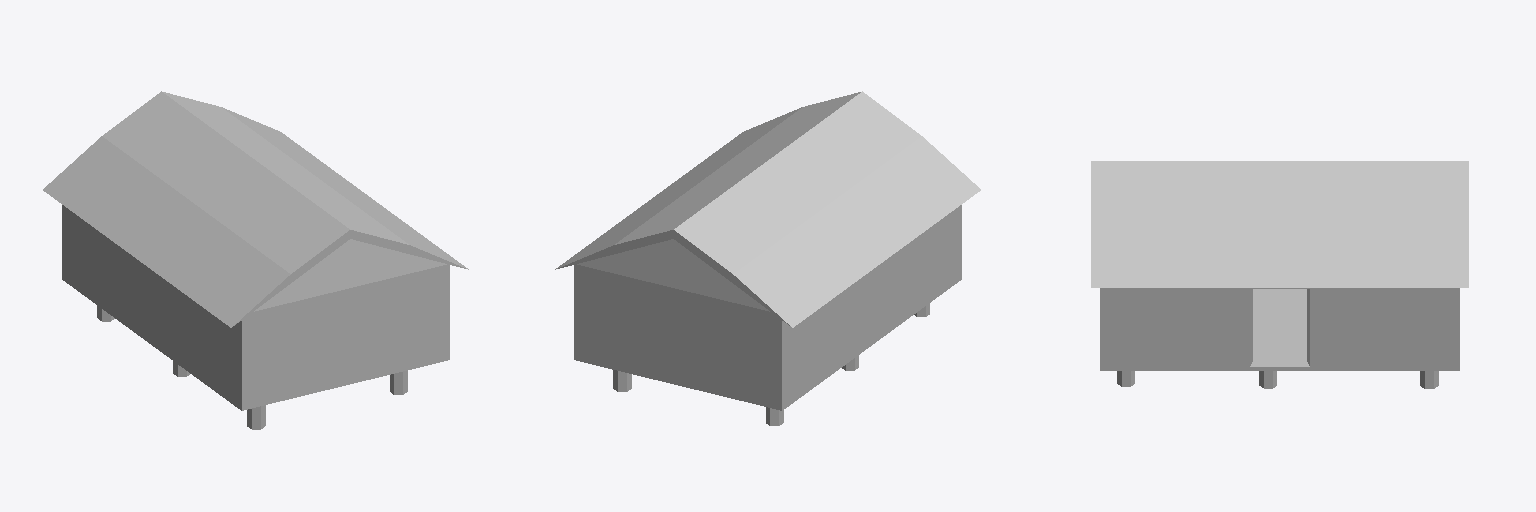
Rendered from shelter_model.obj.
3 renders of one model, left to right at view 1: azimuth 30°, elevation 25°; view 2: azimuth 150°, elevation 25°; view 3: azimuth 270°, elevation 25°, orthographic.
Visible parts, largest first — view 1: Cube_Cube.001; view 2: Cube_Cube.001; view 3: Cube_Cube.001.
Part boxes in pixels (bbox=[...]): Cube_Cube.001: bbox=[43, 91, 468, 429]; Cube_Cube.001: bbox=[555, 91, 980, 425]; Cube_Cube.001: bbox=[1091, 161, 1468, 388].
Size of the model in its own units: 5.18 by 3.97 by 7.11.